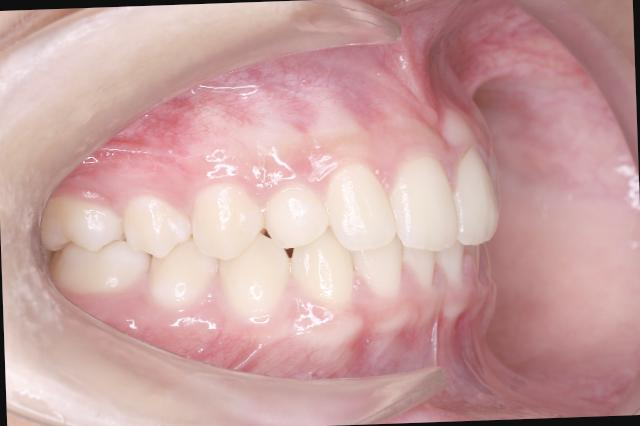canine class II 1/4: (212, 170, 359, 330)
molar class I: (41, 192, 149, 302)
